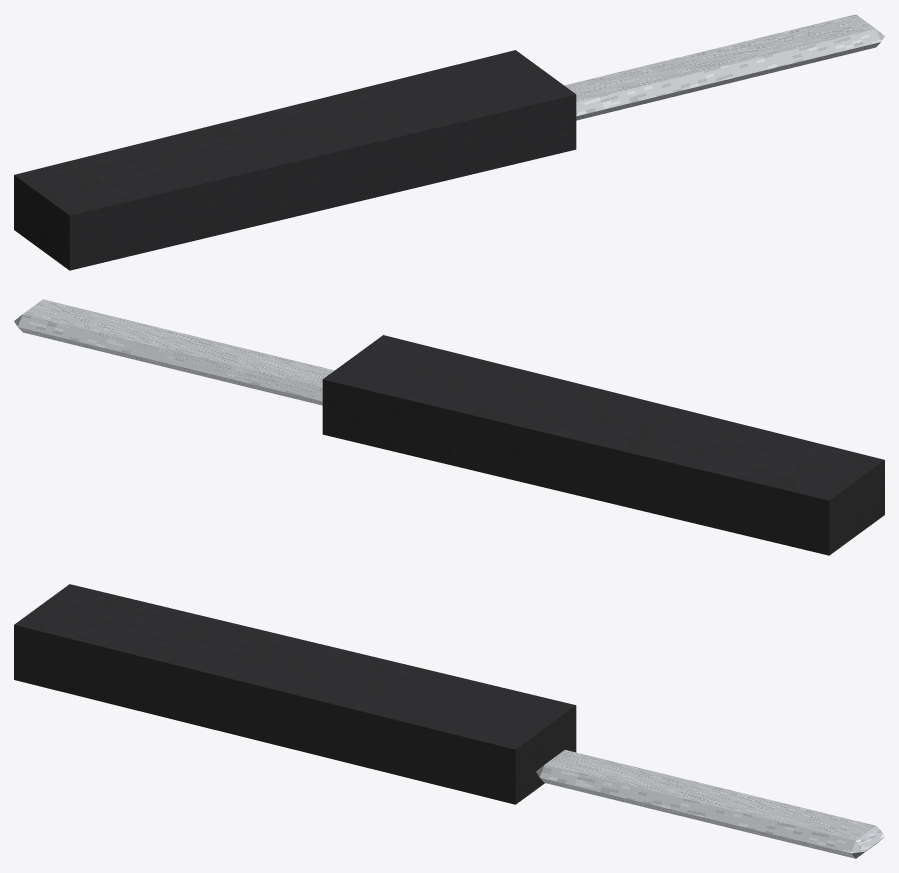
File: peeler.glb
3 renders of one model, top to bottom at view 1: azimuth 30°, elevation 25°; view 2: azimuth 150°, elevation 25°; view 3: azimuth 330°, elevation 25°, orthographic.
Visible parts, largest first — view 1: block_handle, block_blade; view 2: block_handle, block_blade; view 3: block_handle, block_blade.
Part boxes in pixels (x1=…): block_handle: x1=14, y1=50, x2=576, y2=270; block_blade: x1=564, y1=14, x2=884, y2=120; block_handle: x1=322, y1=335, x2=884, y2=555; block_blade: x1=14, y1=299, x2=334, y2=405; block_handle: x1=14, y1=584, x2=576, y2=804; block_blade: x1=536, y1=750, x2=884, y2=858.
Size of the model in its own units: 0.19 by 0.012 by 0.024.
2 materials, 2 textured.
